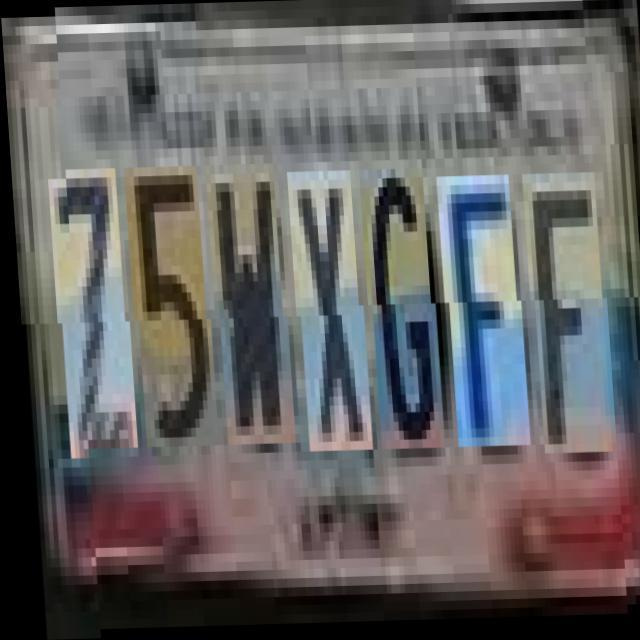5: (126, 167, 213, 448)
F: (524, 176, 610, 457), (438, 178, 524, 450)
G: (361, 170, 439, 452)
W: (208, 165, 290, 446)
X: (289, 172, 367, 454)
Z: (50, 169, 132, 450)
